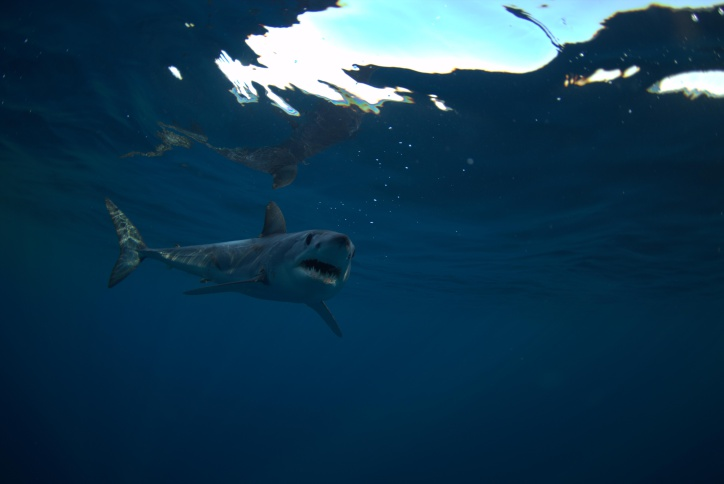Mako: (78, 181, 379, 351)
